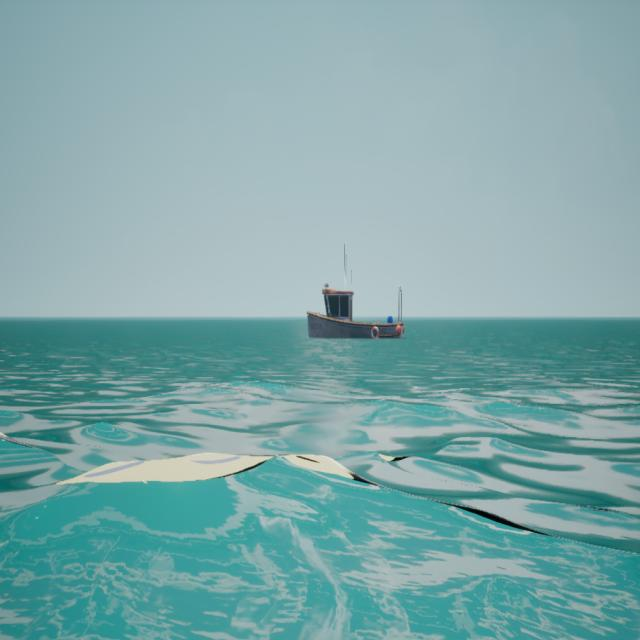ship: (302, 226, 412, 352)
